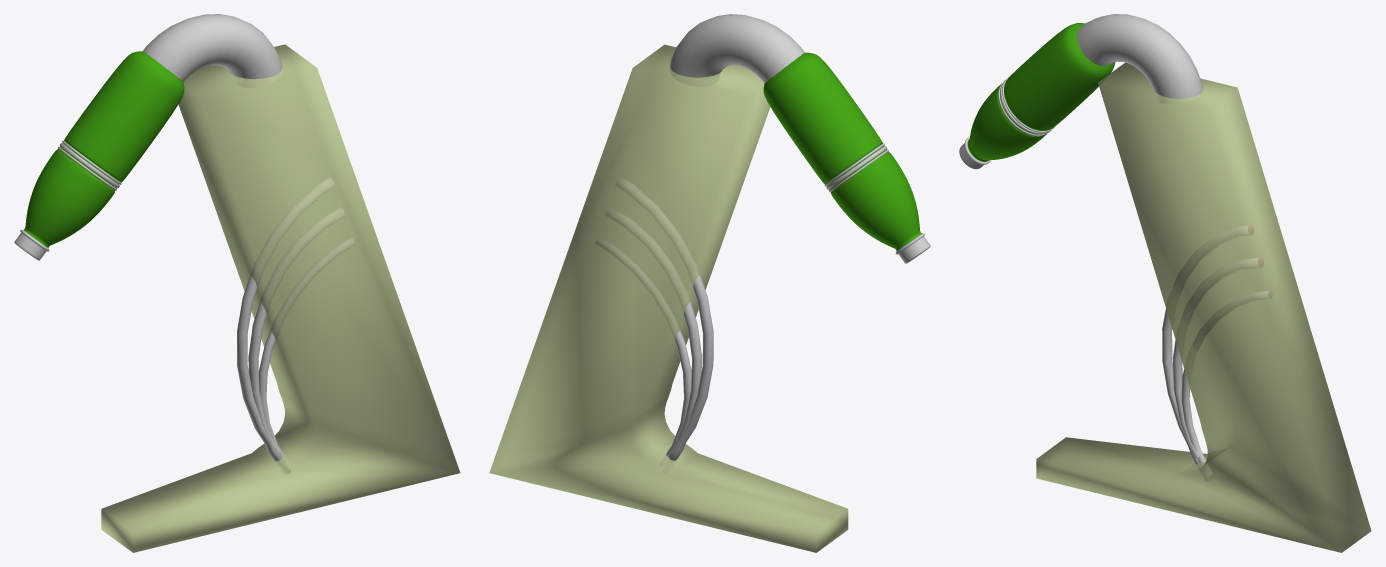
Rendered from aseton_tool (2).obj.
The picture shows the model from 3 angles, left to right: view 1: azimuth 30°, elevation 25°; view 2: azimuth 150°, elevation 25°; view 3: azimuth 330°, elevation 25°; orthographic projection. The views are drawn at different scales.
Visible parts, largest first — view 1: Circle.055_metal; view 2: Circle.055_metal; view 3: Circle.055_metal.
Boxes of the visible parts, x1,y1,x2,y2 form: Circle.055_metal: [14, 14, 460, 552]; Circle.055_metal: [489, 14, 930, 552]; Circle.055_metal: [959, 14, 1371, 552].
Size of the model in its own units: 23.66 by 26.71 by 3.57.
